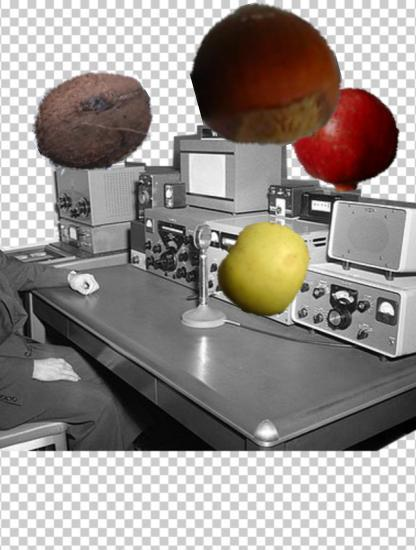Apple: (216, 220, 313, 317)
Cocos: (32, 61, 155, 184)
Nut: (193, 2, 339, 148)
Pear: (215, 13, 337, 135)
Pomegranate: (291, 85, 401, 195)
